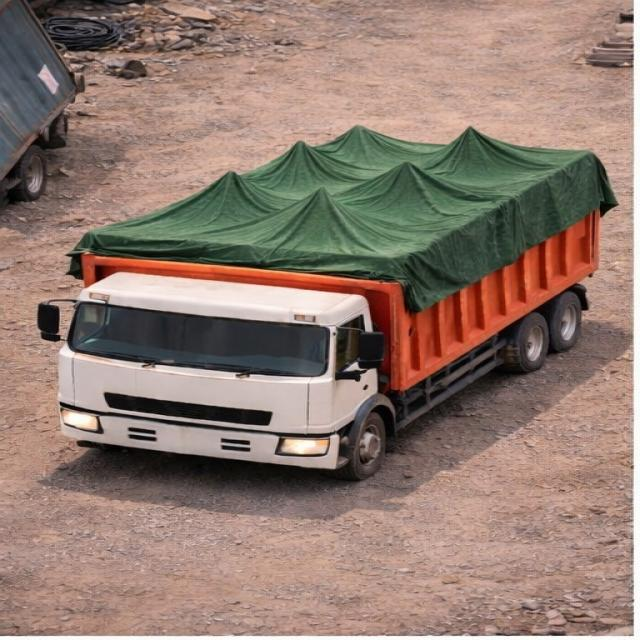Box: (82, 126, 604, 250)
Truck: (34, 122, 612, 480)
